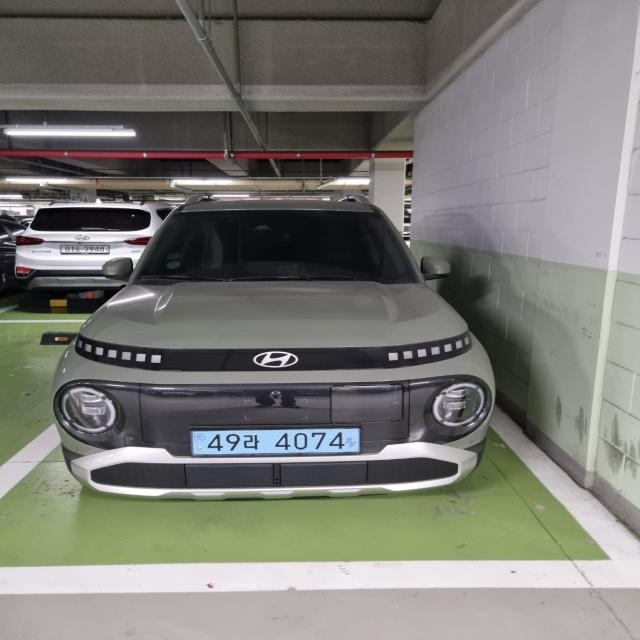car: (173, 420, 381, 466)
carev: (340, 424, 367, 460), (185, 429, 209, 463)
